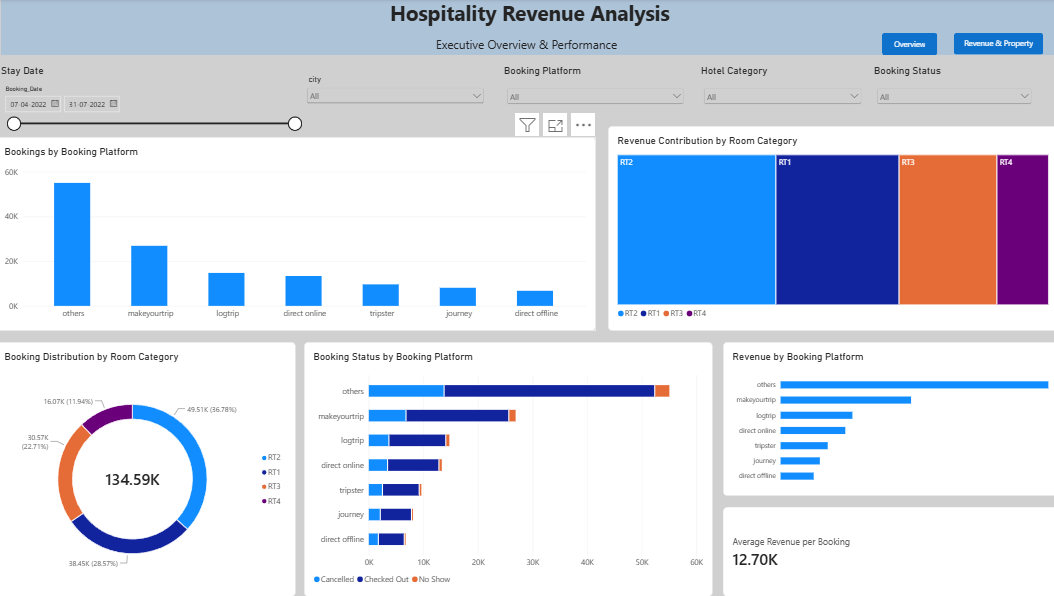

This screenshot's page, from the dashboard's own definition file:
{"tool":"powerbi","page":{"name":"Page 2","canvas":[1920,1080],"ordinal":1},"visuals":[{"type":"clusteredColumnChart","title":"Bookings by Booking Platform","fields":{"Category":["hospitality_powerbi_data.booking_platform"],"Y":["CountNonNull(hospitality_powerbi_data.booking_id)"]},"box":[0,250,1085,350],"z":0},{"type":"donutChart","title":"Booking Distribution by Room Category","fields":{"Category":["hospitality_powerbi_data.room_category"],"Y":["CountNonNull(hospitality_powerbi_data.booking_id)"]},"box":[0,620,542.5,460],"z":1000},{"type":"treemap","title":"Revenue Contribution by Room Category","fields":{"Group":["hospitality_powerbi_data.room_category"],"Values":["CountNonNull(hospitality_powerbi_data.booking_id)"]},"box":[1107.5,230,812.5,370],"z":2000},{"type":"clusteredBarChart","title":"Revenue by Booking Platform","fields":{"Category":["hospitality_powerbi_data.booking_platform"],"Y":["hospitality_powerbi_data.Revenue Realized"]},"box":[1315,620,605,277.5],"z":3000},{"type":"barChart","title":"Booking Status by Booking Platform","fields":{"Category":["hospitality_powerbi_data.booking_platform"],"Series":["hospitality_powerbi_data.booking_status"],"Y":["CountNonNull(hospitality_powerbi_data.booking_id)"]},"box":[557.5,620,737.5,460],"z":4000},{"type":"cardVisual","fields":{"Data":["hospitality_powerbi_data.Average Revenue per Booking"]},"box":[1315,917.5,605,162.5],"z":5000},{"type":"textbox","box":[10.1,0,1909.9,100.8],"z":6000},{"type":"textbox","box":[235,67.5,1450,32.5],"z":7000},{"type":"slicer","title":"Stay Date","fields":{"Values":["hospitality_powerbi_data.booking_date"]},"box":[10.3,119.7,547.1,130.1],"z":8000},{"type":"slicer","title":"Hotel Category","fields":{"Values":["hospitality_powerbi_data.hotel_category"]},"box":[1275,120,295,130],"z":9000},{"type":"slicer","title":"Booking Platform","fields":{"Values":["hospitality_powerbi_data.booking_platform"]},"box":[920,120,330,130],"z":10000},{"type":"slicer","fields":{"Values":["hospitality_powerbi_data.city"]},"box":[557.5,137.5,330,92.5],"z":11000},{"type":"slicer","title":"Booking Status","fields":{"Values":["hospitality_powerbi_data.booking_status"]},"box":[1587.5,120,290,130],"z":12000},{"type":"actionButton","box":[1602.1,61.9,100,40],"z":12001},{"type":"actionButton","box":[1732.1,61.9,161,39.2],"z":12002}]}

Visuals, with their boxes in screenshot pixels (x1, y1, x2, y2), scaled from the page's 1920x1080 canvas onto the 1054x596 screenshot:
"Bookings by Booking Platform" clusteredColumnChart: (0,138,596,331)
"Booking Distribution by Room Category" donutChart: (0,342,298,595)
"Revenue Contribution by Room Category" treemap: (608,127,1053,331)
"Revenue by Booking Platform" clusteredBarChart: (722,342,1053,495)
"Booking Status by Booking Platform" barChart: (306,342,711,595)
cardVisual - hospitality_powerbi_data.Average Revenue per Booking: (722,506,1053,595)
textbox: (6,0,1053,56)
textbox: (129,37,925,55)
"Stay Date" slicer: (6,66,306,138)
"Hotel Category" slicer: (700,66,862,138)
"Booking Platform" slicer: (505,66,686,138)
slicer - hospitality_powerbi_data.city: (306,76,487,127)
"Booking Status" slicer: (871,66,1031,138)
actionButton: (879,34,934,56)
actionButton: (951,34,1039,56)
